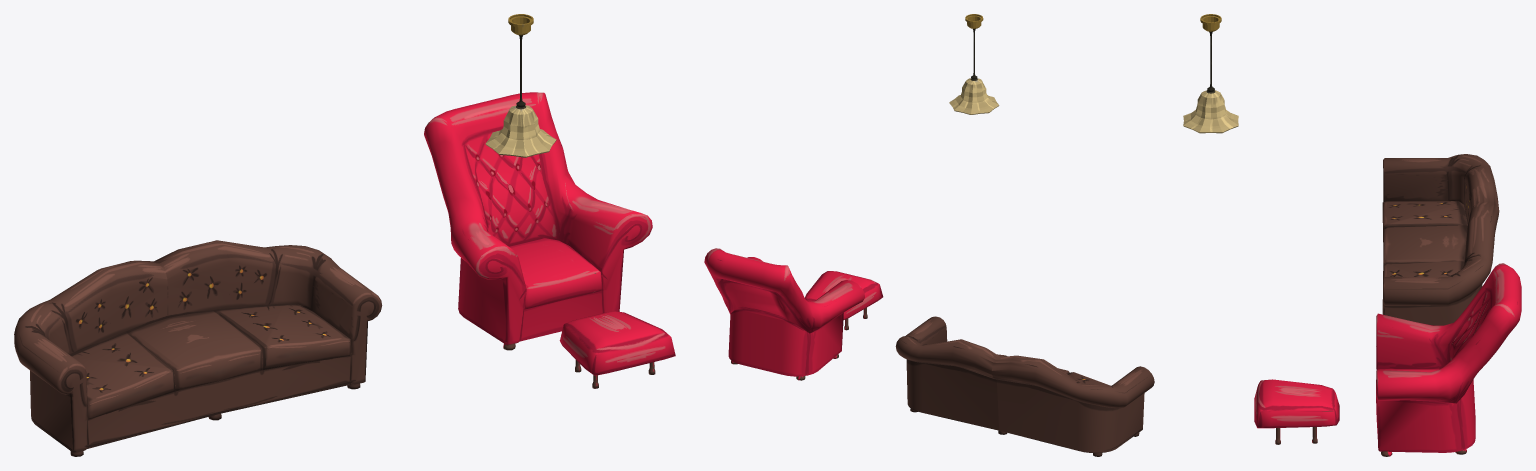
File: armchair1.fbx
3 renders of one model, left to right at view 1: azimuth 30°, elevation 25°; view 2: azimuth 150°, elevation 25°; view 3: azimuth 270°, elevation 25°, orthographic. The views are drawn at different scales.
Parts seen in each view (by area): view 1: sofa_1, armchair_1, Cylinder; view 2: sofa_1, armchair_1, Cylinder; view 3: armchair_1, sofa_1, Cylinder.
Boxes of the visible parts, x1,y1,x2,y2 form: sofa_1: (14,240,382,456); armchair_1: (424,92,675,388); Cylinder: (485,14,556,157); sofa_1: (895,316,1154,456); armchair_1: (704,248,883,380); Cylinder: (949,14,999,114); armchair_1: (1254,263,1521,456); sofa_1: (1382,154,1499,325); Cylinder: (1183,14,1238,133).
Bounding box in the file's own units: 522 × 364 × 309.
